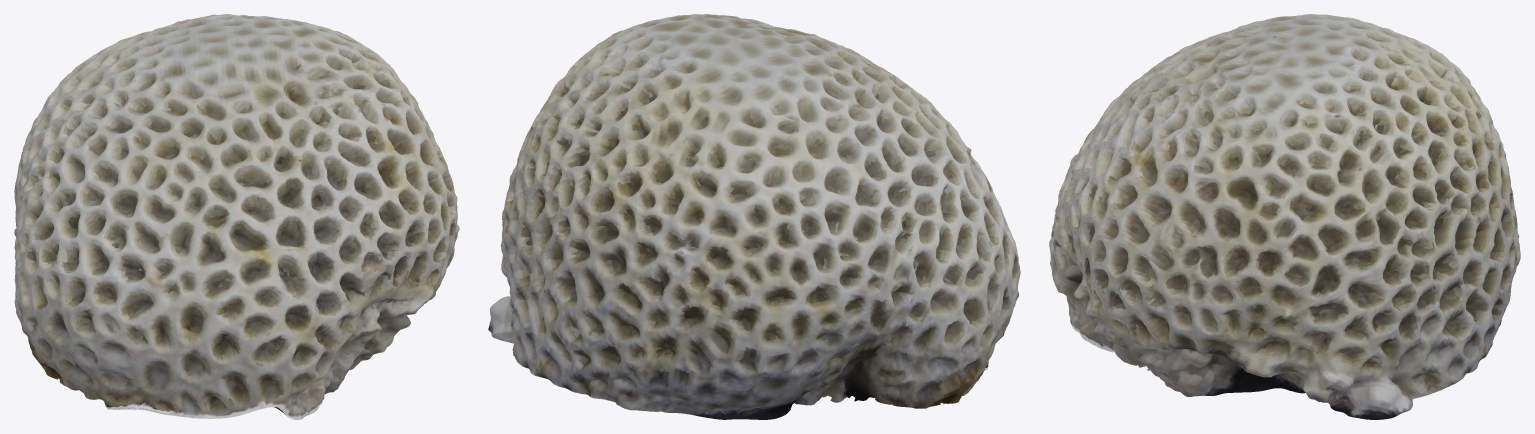
File: coral1.glb
3 views of the same model, side by side, from view 1: azimuth 30°, elevation 25°; view 2: azimuth 150°, elevation 25°; view 3: azimuth 270°, elevation 25° (orthographic). The views are drawn at different scales.
Visible parts, largest first — view 1: Object_4, Object_3, Object_2; view 2: Object_3, Object_2, Object_4; view 3: Object_2, Object_3, Object_4.
Part boxes in pixels (x1,y1,x2,y2): Object_4: [20, 14, 419, 419]; Object_3: [14, 22, 459, 406]; Object_2: [45, 38, 459, 391]; Object_3: [631, 36, 1001, 419]; Object_2: [488, 14, 935, 410]; Object_4: [555, 14, 1020, 405]; Object_2: [1075, 17, 1520, 419]; Object_3: [1053, 14, 1519, 394]; Object_4: [1049, 32, 1458, 345].
Bounding box in the file's own units: 11.9 × 8.28 × 11.26.
1 material, 1 textured.
